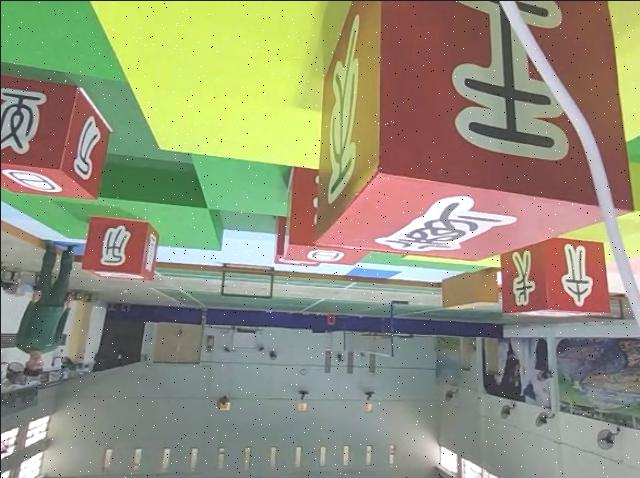R2 Fake: (311, 0, 636, 262), (0, 75, 111, 202), (497, 237, 612, 319), (79, 213, 160, 282)
